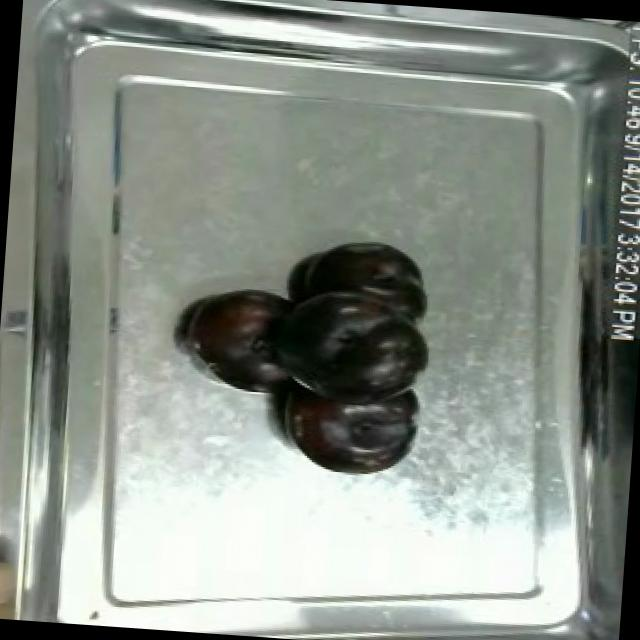Fruit: (272, 384, 426, 482), (177, 280, 302, 380), (0, 545, 35, 620)
